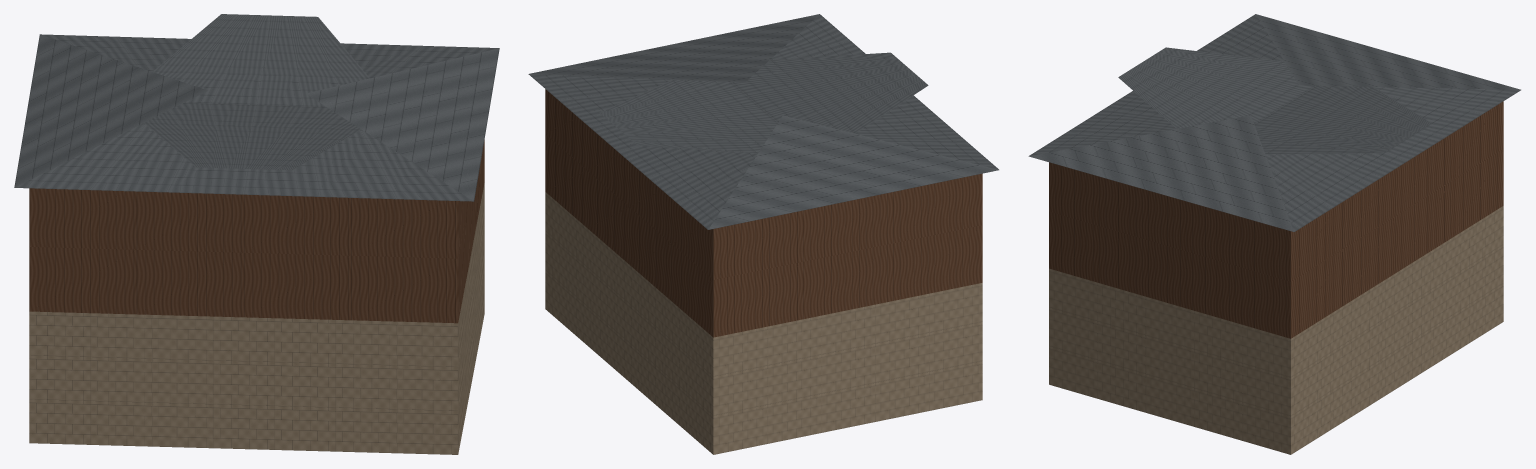
Rendered from bld_c10_10_501.gltf.
3 views of the same model, side by side, from view 1: azimuth 30°, elevation 25°; view 2: azimuth 150°, elevation 25°; view 3: azimuth 270°, elevation 25° (orthographic). The views are drawn at different scales.
Visible parts, largest first — view 1: bld_c10_10_501; view 2: bld_c10_10_501; view 3: bld_c10_10_501.
Boxes of the visible parts, x1,y1,x2,y2 form: bld_c10_10_501: [14, 14, 499, 454]; bld_c10_10_501: [528, 14, 998, 454]; bld_c10_10_501: [1028, 14, 1520, 454].
Bounding box in the file's own units: 20.55 × 11.1 × 19.63.
Materials: 3 (3 with a texture image).
